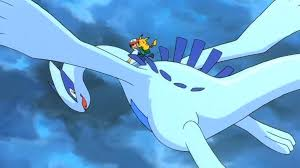lugia: (47, 60, 92, 113)
